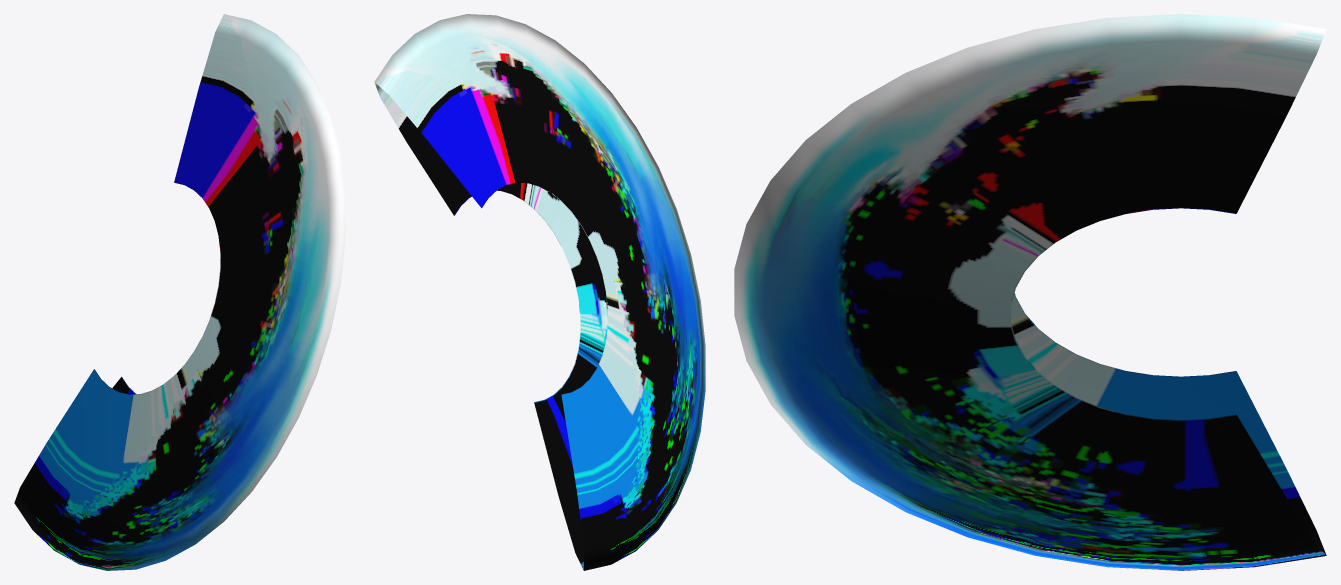
The model's file is Knight_Bullet_Fix.fbx.
3 renders of one model, left to right at view 1: azimuth 30°, elevation 25°; view 2: azimuth 150°, elevation 25°; view 3: azimuth 270°, elevation 25°, orthographic. The views are drawn at different scales.
Visible parts, largest first — view 1: GW_2203_daoguang_001; view 2: GW_2203_daoguang_001; view 3: GW_2203_daoguang_001.
Boxes of the visible parts, <box> form: GW_2203_daoguang_001: <box>14,14,345,570</box>; GW_2203_daoguang_001: <box>374,14,705,570</box>; GW_2203_daoguang_001: <box>734,14,1326,570</box>.
Bounding box in the file's own units: 2.55 × 5.1 × 3.77.
1 material, 1 textured.
